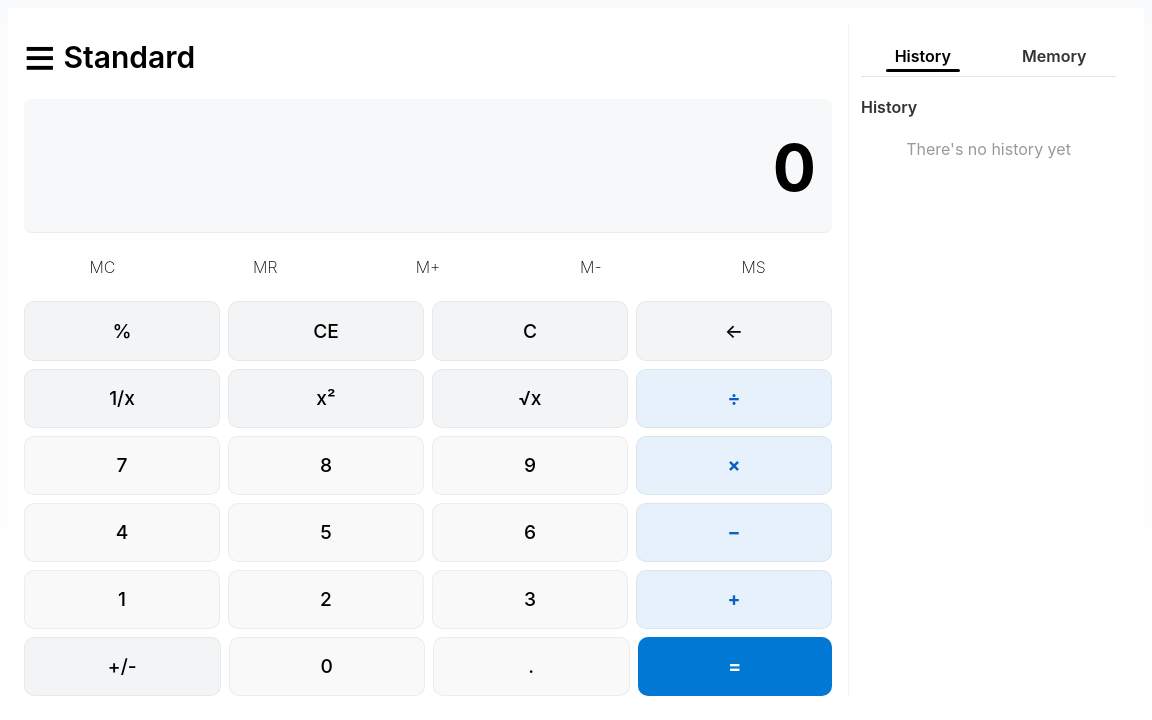
Calculator UI — detailed (async-safe) › basic subtraction 5 − 3 = 2
Click the button "5".
click(326, 532)  # box [228, 503, 424, 562]
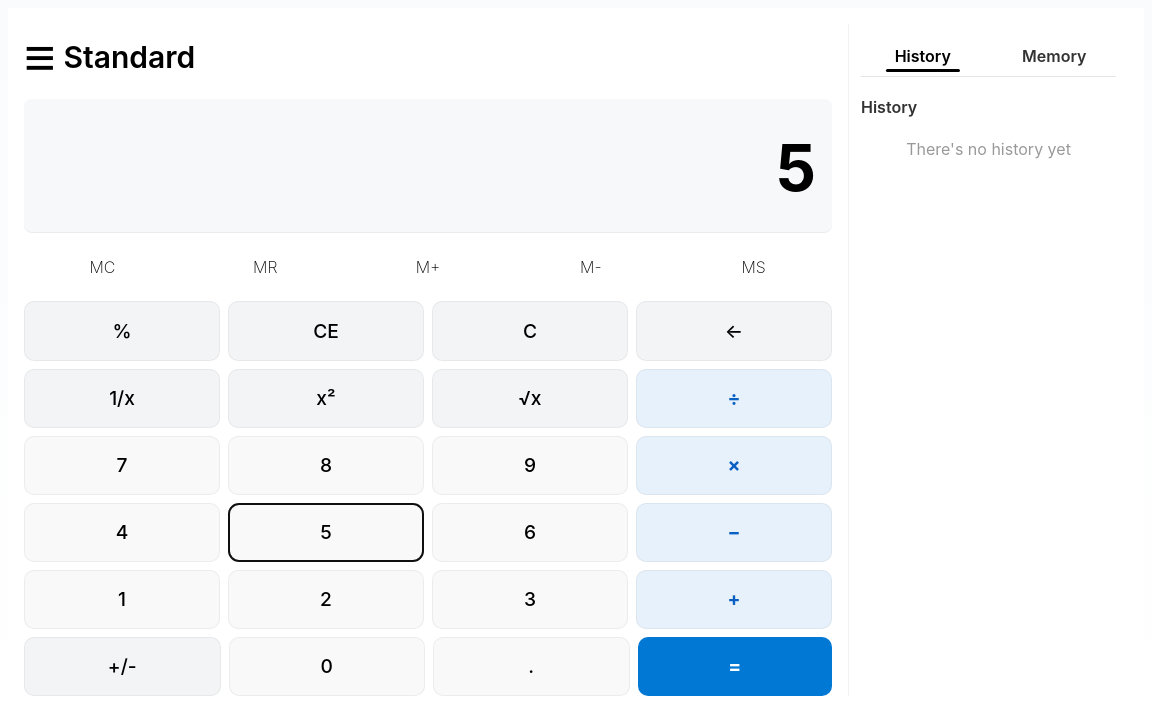
Click the button "−".
click(734, 532)  # box [636, 503, 832, 562]
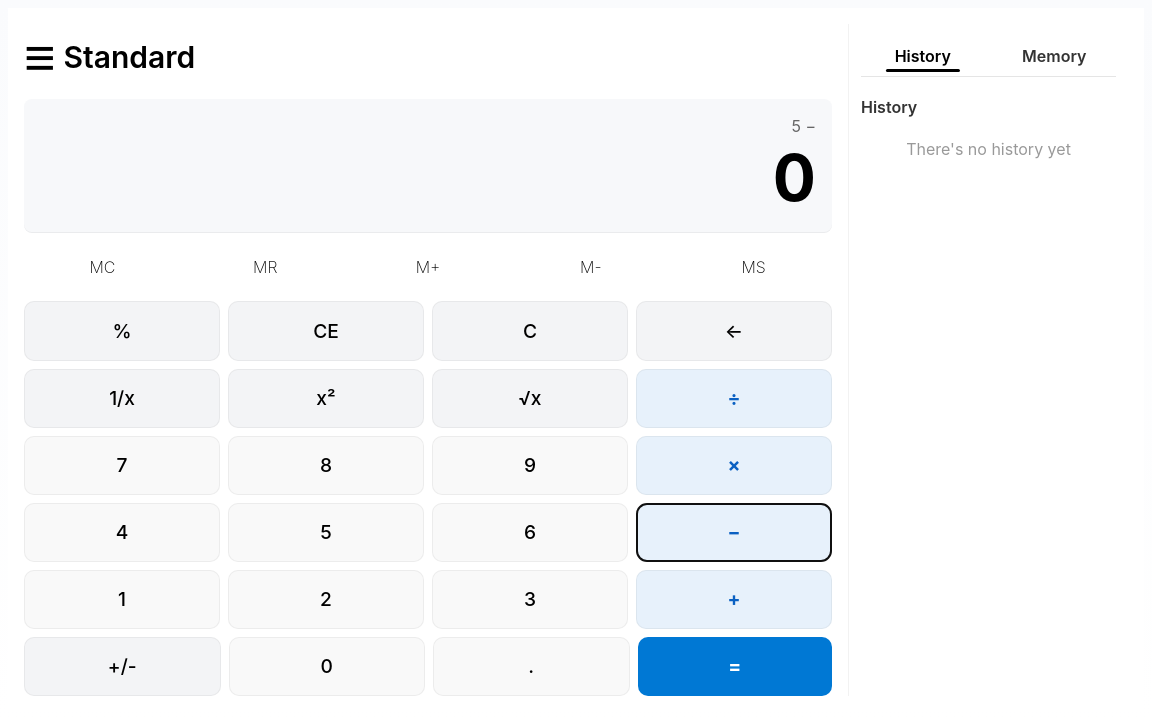
Click the button "3".
click(530, 599)  # box [432, 570, 628, 629]
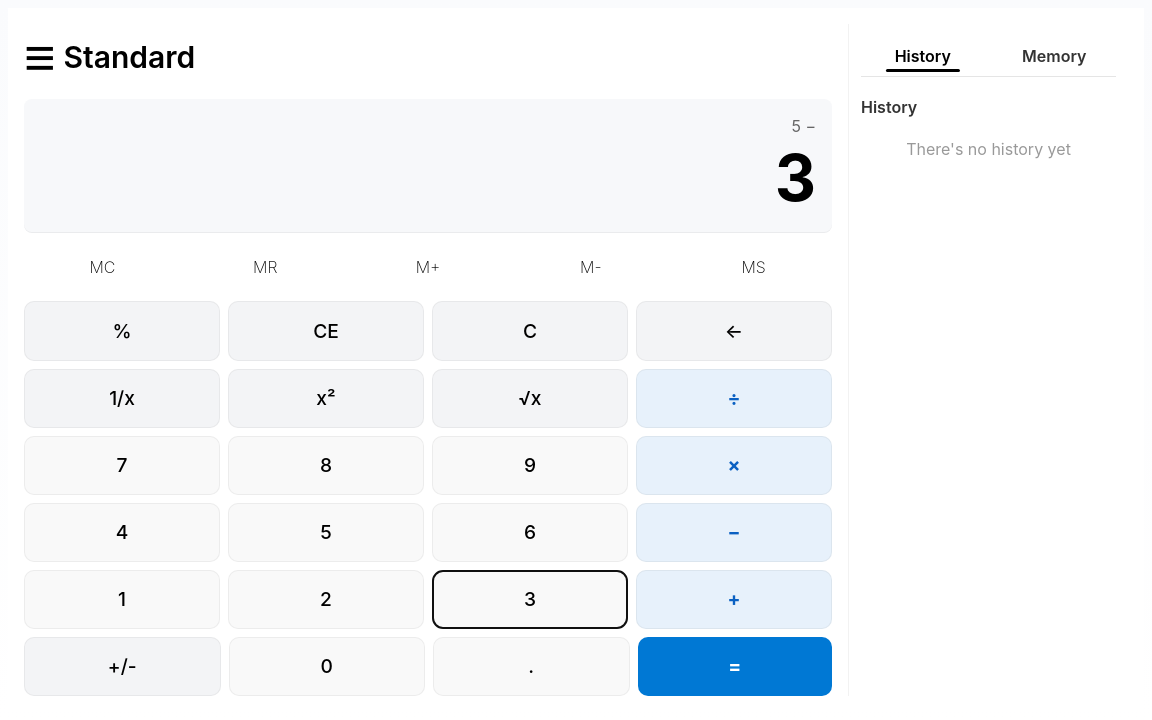
Click the button "=".
click(735, 666)  # box [638, 637, 832, 696]
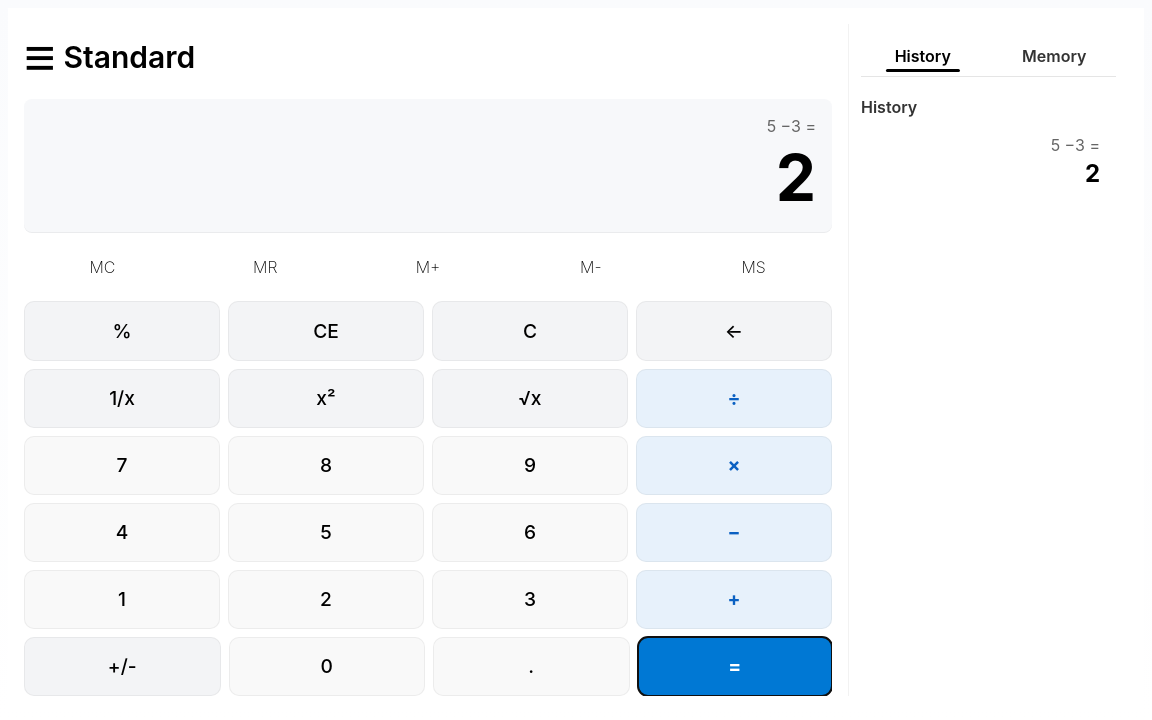
Expected: the field with test id "display" reads "2", [776, 140, 816, 216]
